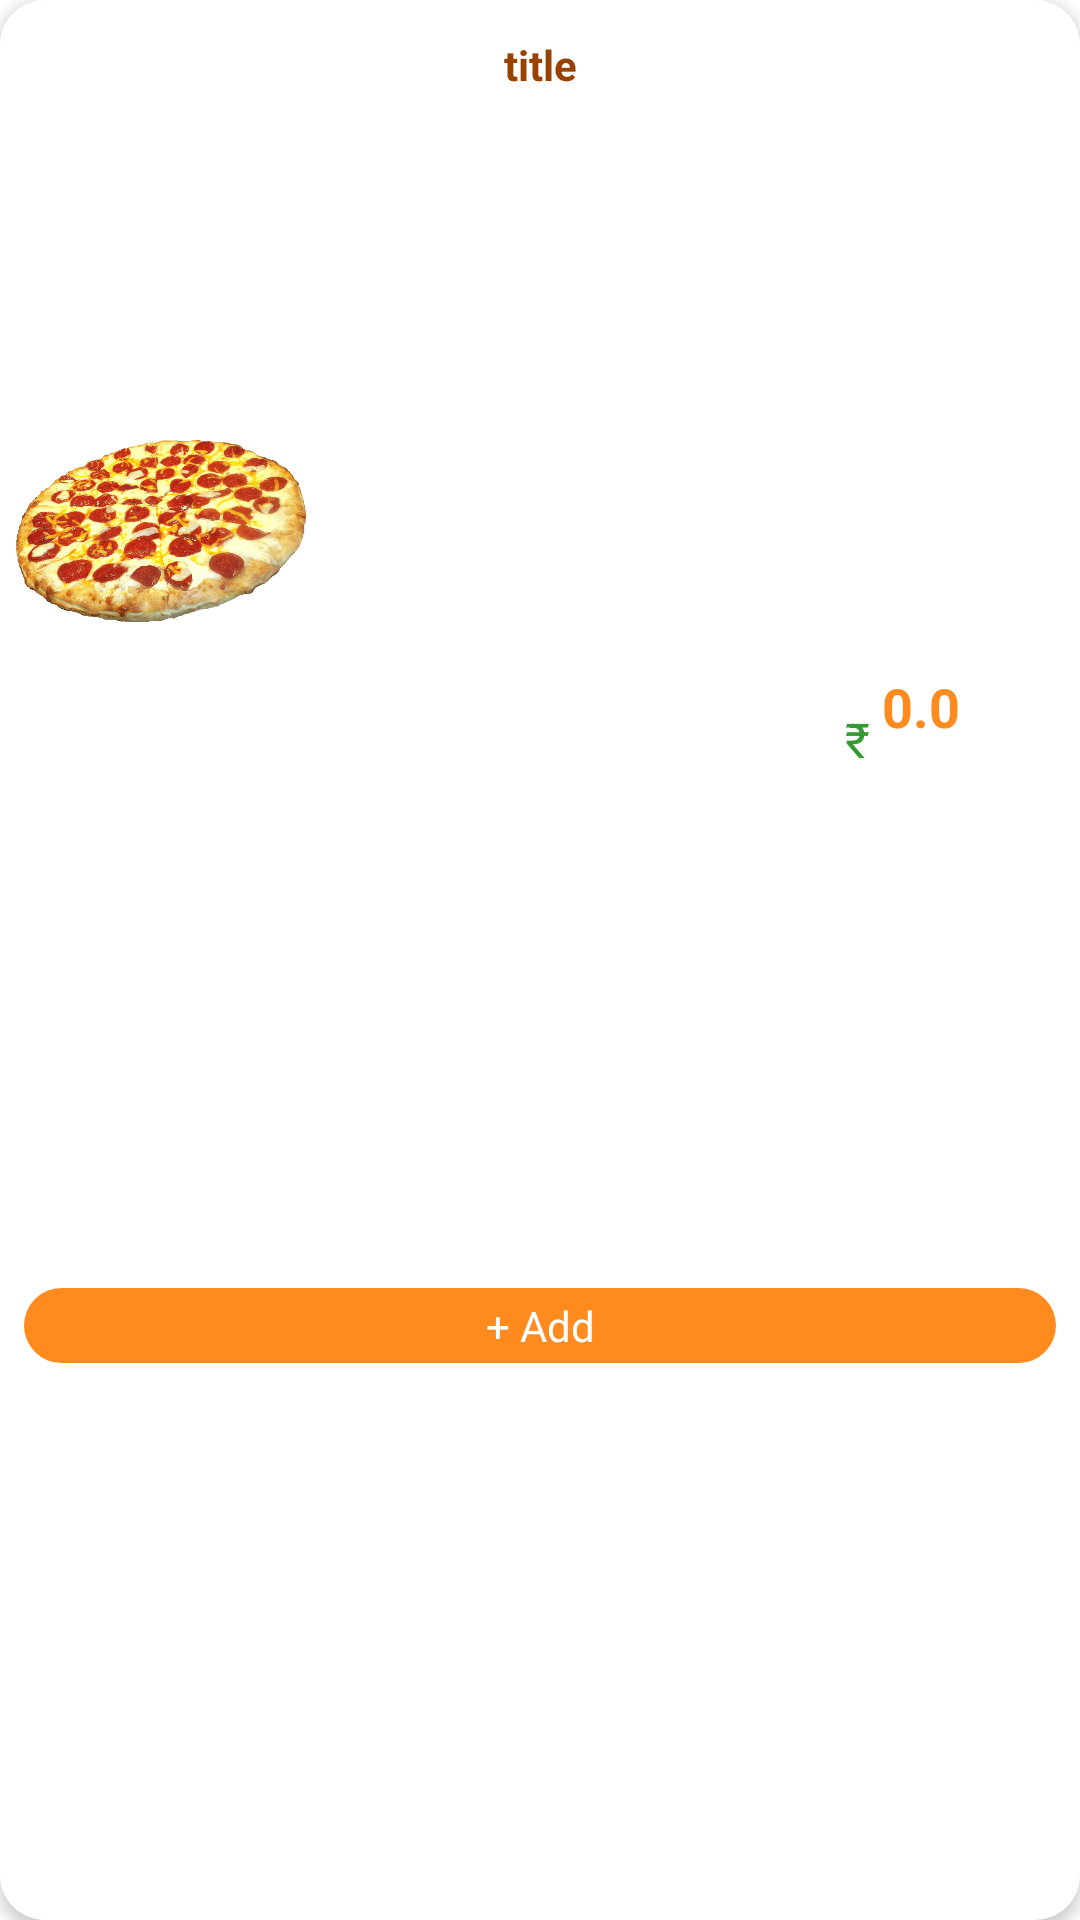

Where icons sit on this 1080x1920 app screen, as (x1,y1,x2,y2):
pepperoni pizza: (16,440,307,622)
